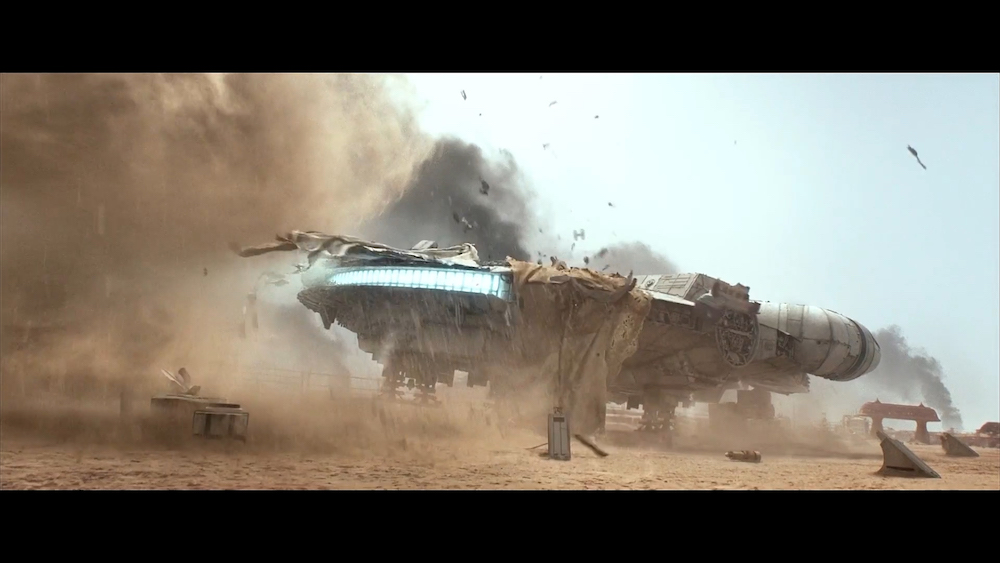Millennium Falcon: (299, 256, 882, 406)
Tie Fighter: (573, 230, 586, 241)
